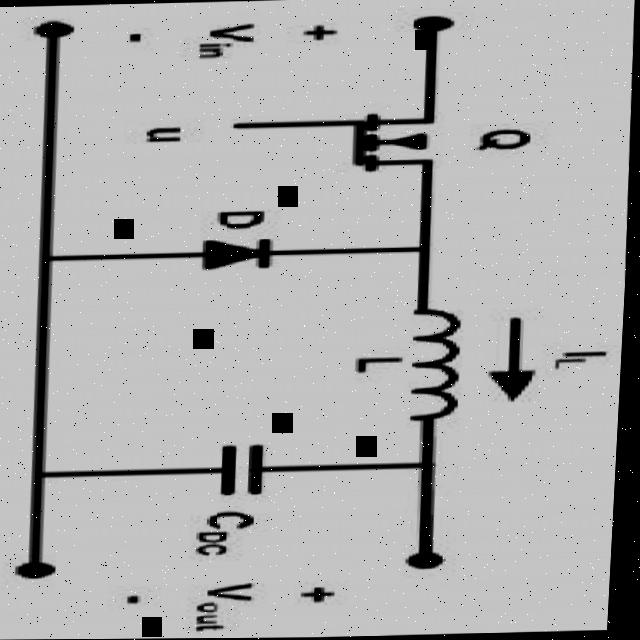capacitor: (191, 424, 306, 504)
diode: (160, 222, 304, 296)
inductor: (351, 292, 504, 443)
mosfet: (210, 93, 480, 183)
